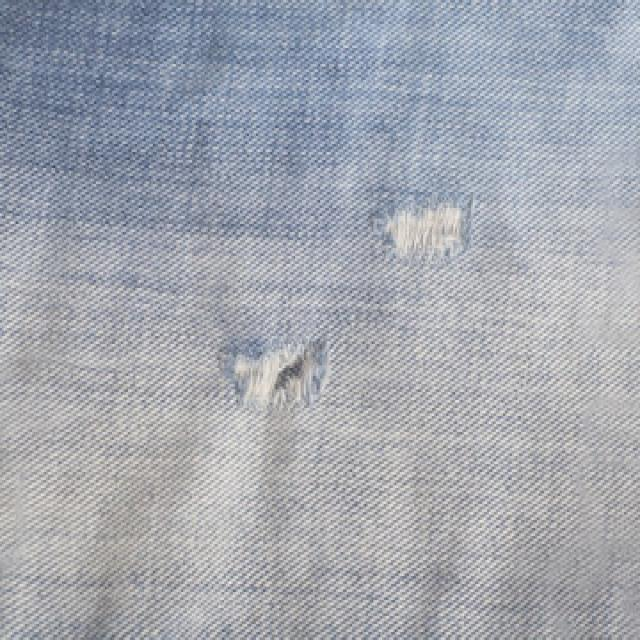seam: (348, 155, 498, 290), (184, 320, 356, 424)
